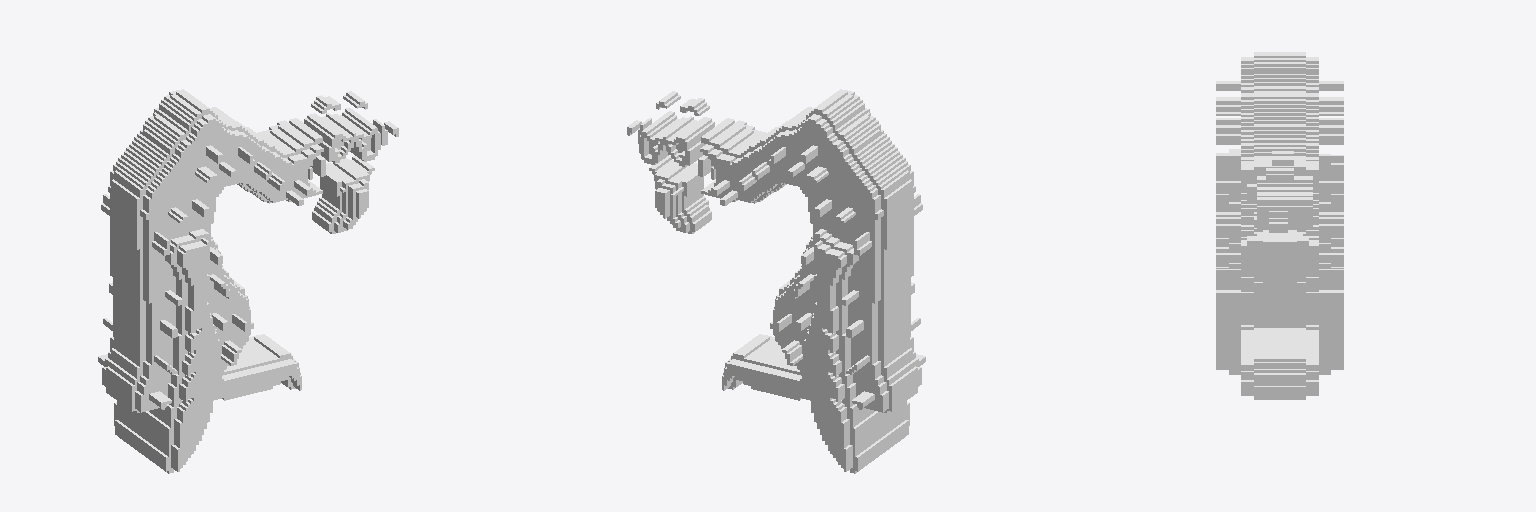
File: drongo.obj
3 views of the same model, side by side, from view 1: azimuth 30°, elevation 25°; view 2: azimuth 150°, elevation 25°; view 3: azimuth 270°, elevation 25° (orthographic).
Parts seen in each view (by area): view 1: drongo; view 2: drongo; view 3: drongo.
Boxes of the visible parts, box(x1,y1,x2,y2) form: drongo: box(98, 89, 398, 473); drongo: box(627, 89, 925, 473); drongo: box(1216, 52, 1343, 399).
Size of the model in its own units: 102 by 122 by 41.